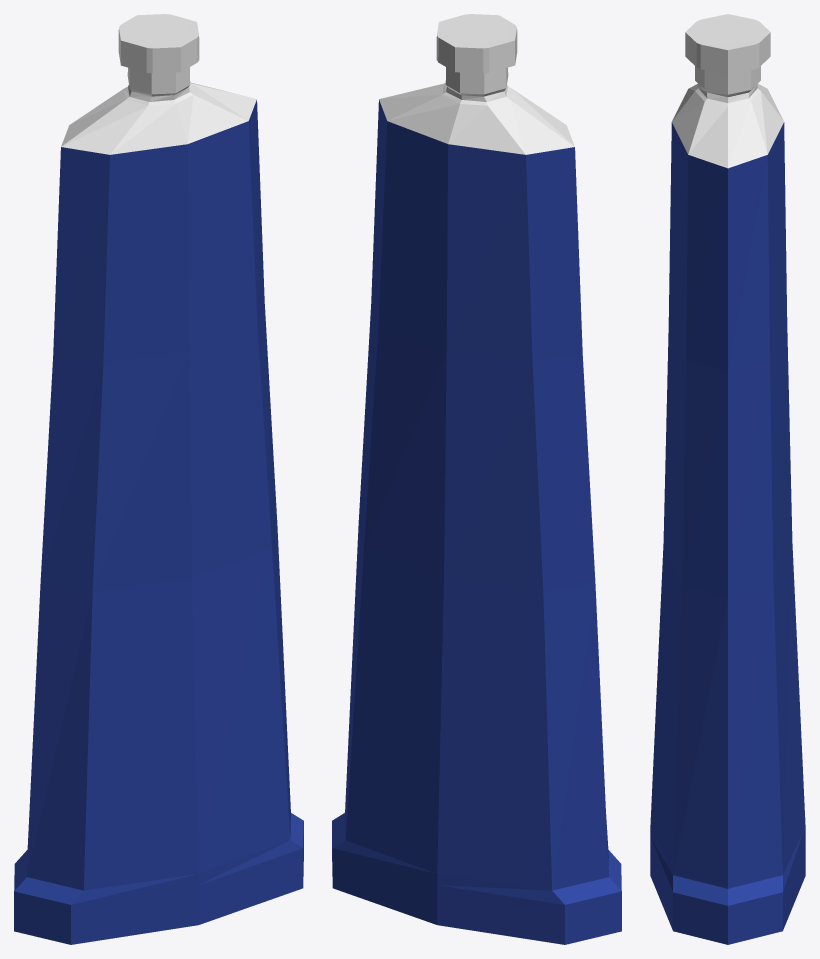
The model's file is Pintura.fbx.
3 renders of one model, left to right at view 1: azimuth 30°, elevation 25°; view 2: azimuth 150°, elevation 25°; view 3: azimuth 270°, elevation 25°, orthographic. The views are drawn at different scales.
Visible parts, largest first — view 1: Tinta; view 2: Tinta; view 3: Tinta.
Boxes of the visible parts, bbox=[...] form: Tinta: bbox=[14, 14, 303, 944]; Tinta: bbox=[332, 14, 621, 944]; Tinta: bbox=[650, 14, 805, 944].
Size of the model in its own units: 0.1089 by 0.3107 by 0.0518.
